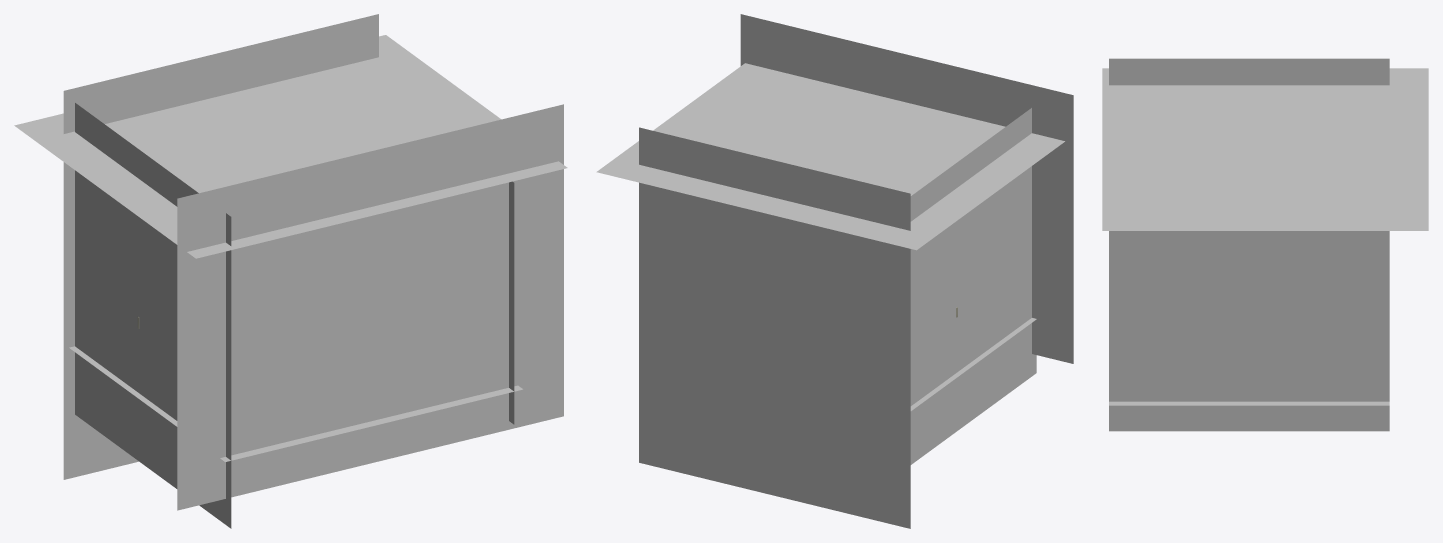
The model's file is office.fbx.
3 views of the same model, side by side, from view 1: azimuth 30°, elevation 25°; view 2: azimuth 150°, elevation 25°; view 3: azimuth 270°, elevation 25° (orthographic). The views are drawn at different scales.
Visible parts, largest first — view 1: Plane.004, Plane.005, Plane.001, Plane.003, Plane, Plane.002; view 2: Plane.003, Plane.005, Plane.001, Plane.004, Plane; view 3: Plane.002, Plane.005, Plane.001, Plane.
Boxes of the visible parts, box(x1,y1,x2,y2) form: Plane.004: box(177, 104, 563, 510); Plane.005: box(14, 35, 567, 258); Plane.001: box(75, 103, 231, 528); Plane.003: box(63, 14, 378, 479); Plane: box(69, 346, 522, 461); Plane.002: box(509, 181, 514, 424); Plane.003: box(639, 127, 910, 528); Plane.005: box(596, 63, 1064, 250); Plane.001: box(910, 108, 1036, 464); Plane.004: box(740, 14, 1073, 363); Plane: box(910, 318, 1036, 410); Plane.002: box(1109, 231, 1389, 431); Plane.005: box(1102, 68, 1428, 230); Plane.001: box(1109, 58, 1389, 85); Plane: box(1109, 401, 1389, 405).
Size of the model in its own units: 682 by 677 by 556.
